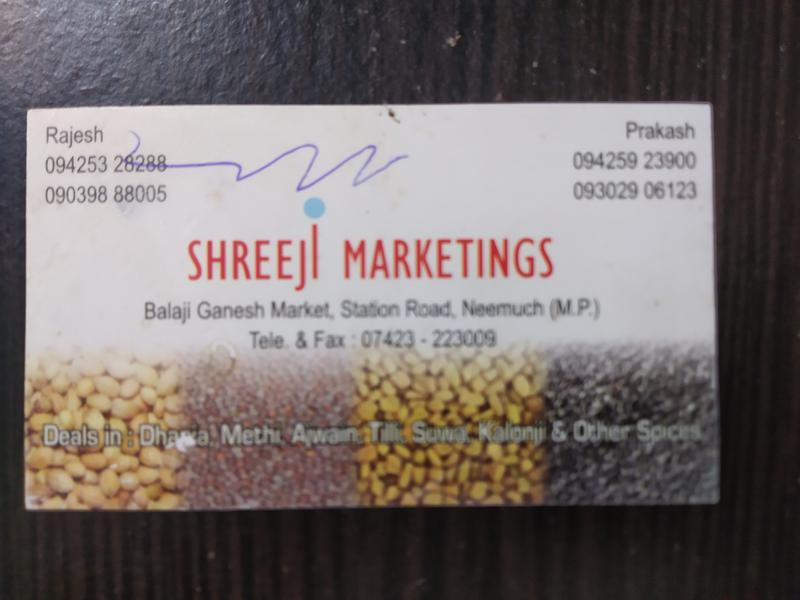card: (24, 103, 723, 512)
